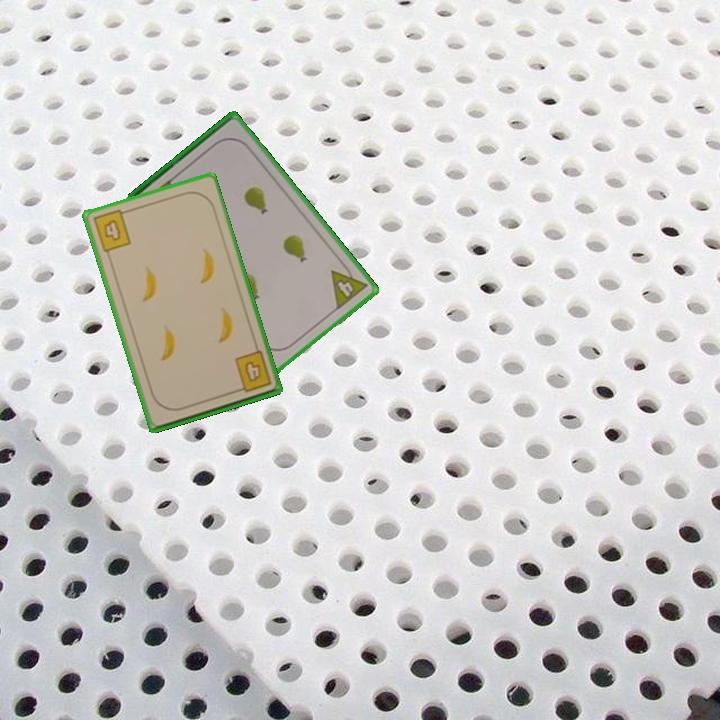4b: (89, 206, 134, 255), (231, 347, 274, 396)
4p: (327, 258, 371, 313)
